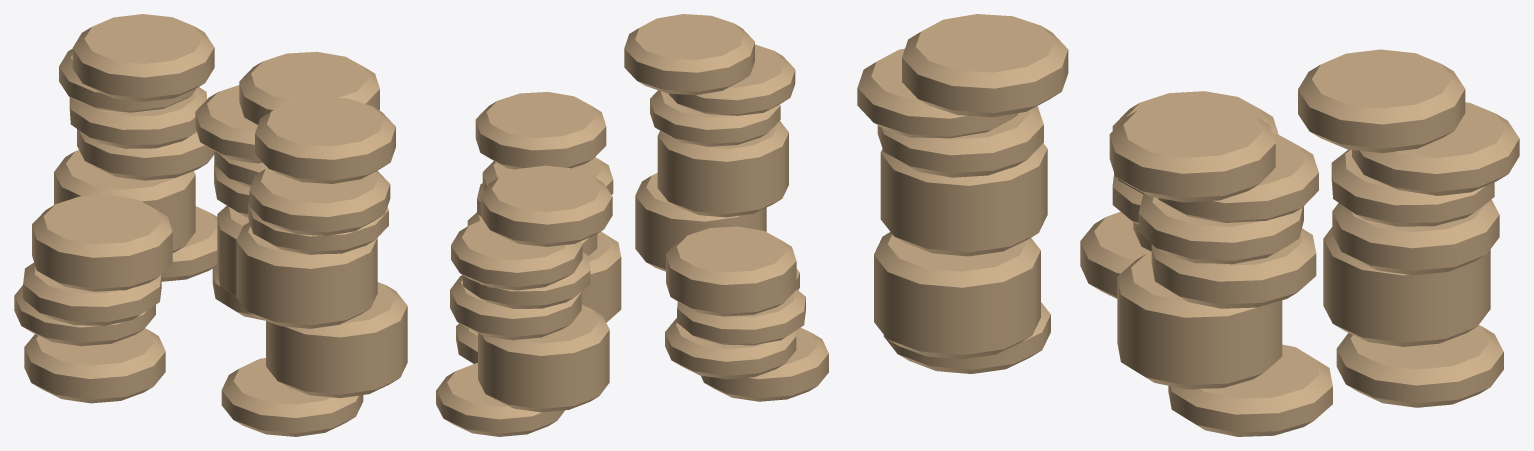
The model's file is prop-coins.glb.
3 renders of one model, left to right at view 1: azimuth 30°, elevation 25°; view 2: azimuth 150°, elevation 25°; view 3: azimuth 270°, elevation 25°, orthographic. The views are drawn at different scales.
Visible parts, largest first — view 1: Prop_Coins; view 2: Prop_Coins; view 3: Prop_Coins.
Boxes of the visible parts, x1,y1,x2,y2 form: Prop_Coins: (14,14,407,436); Prop_Coins: (436,14,828,436); Prop_Coins: (857,14,1519,436).
Bounding box in the file's own units: 0.4567 × 0.3439 × 0.6354.
1 material, 1 textured.
